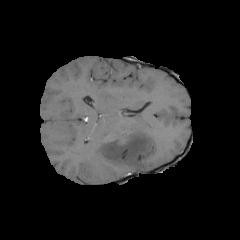glioma: (96, 117, 154, 171)
